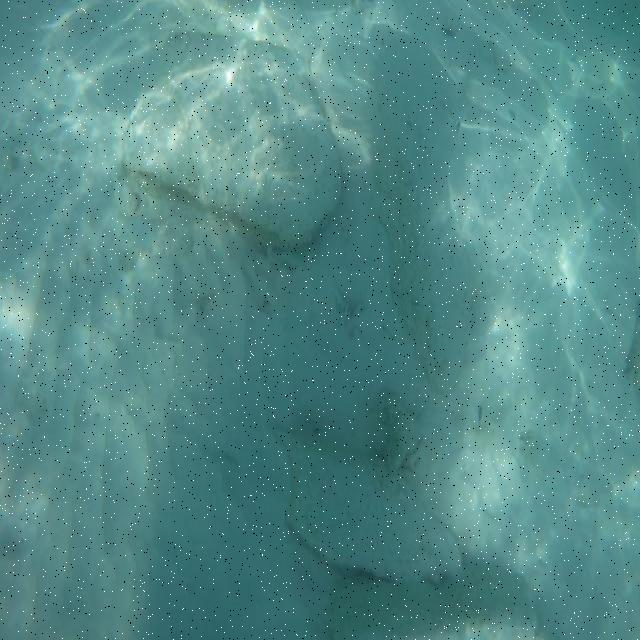fish: (272, 436, 467, 588)
sea-floor: (121, 0, 358, 246), (367, 38, 505, 393)
